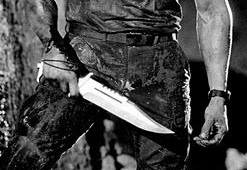knife: (35, 55, 179, 137)
